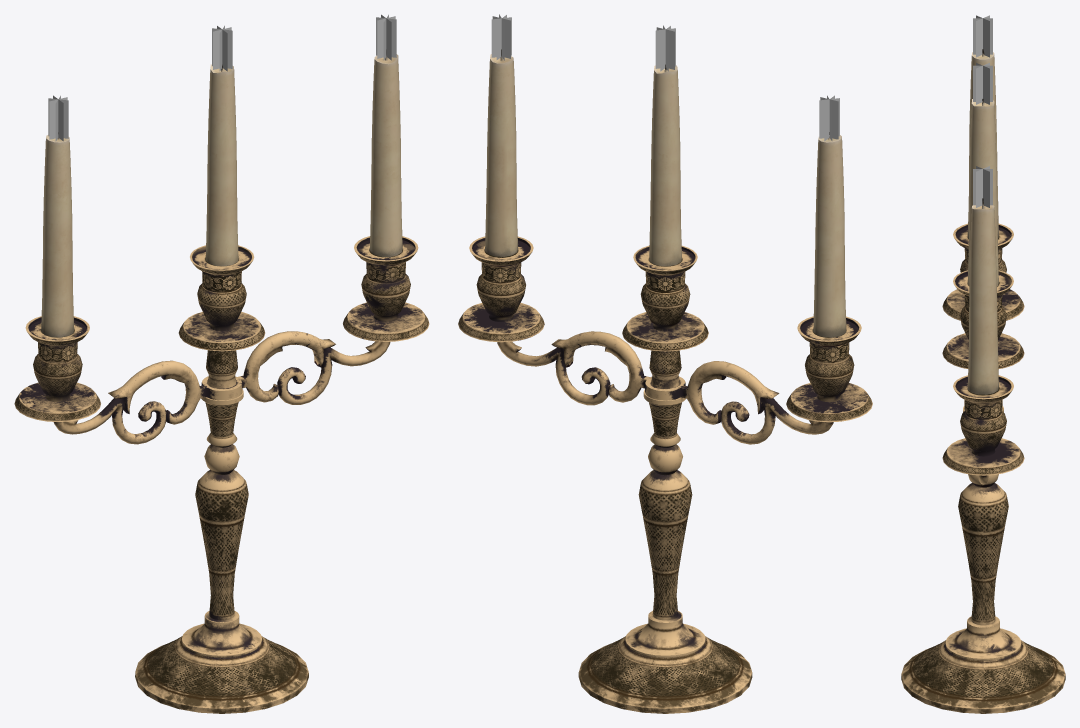
Rendered from brass_candleholders_01.fbx.
3 views of the same model, side by side, from view 1: azimuth 30°, elevation 25°; view 2: azimuth 150°, elevation 25°; view 3: azimuth 270°, elevation 25° (orthographic). The views are drawn at different scales.
Parts seen in each view (by area): view 1: brass_candleholder_02; view 2: brass_candleholder_02; view 3: brass_candleholder_02.
Part boxes in pixels (x1,y1,x2,y2): brass_candleholder_02: (14,14,429,713); brass_candleholder_02: (458,14,872,713); brass_candleholder_02: (901,15,1065,713).
Bounding box in the file's own units: 0.2611 × 0.0974 × 0.4009.
